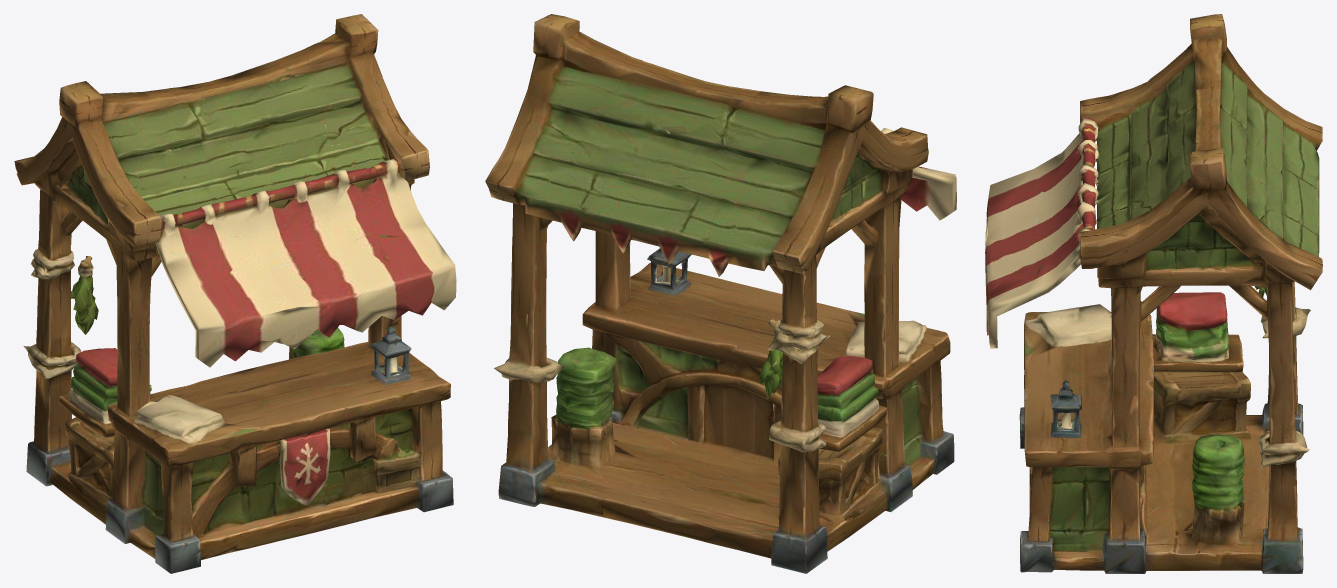
The model's file is market-stall.glb.
3 views of the same model, side by side, from view 1: azimuth 30°, elevation 25°; view 2: azimuth 150°, elevation 25°; view 3: azimuth 270°, elevation 25° (orthographic). The views are drawn at different scales.
Bounding box in the file's own units: 1.45 × 1.91 × 1.4.
1 material, 1 textured.
